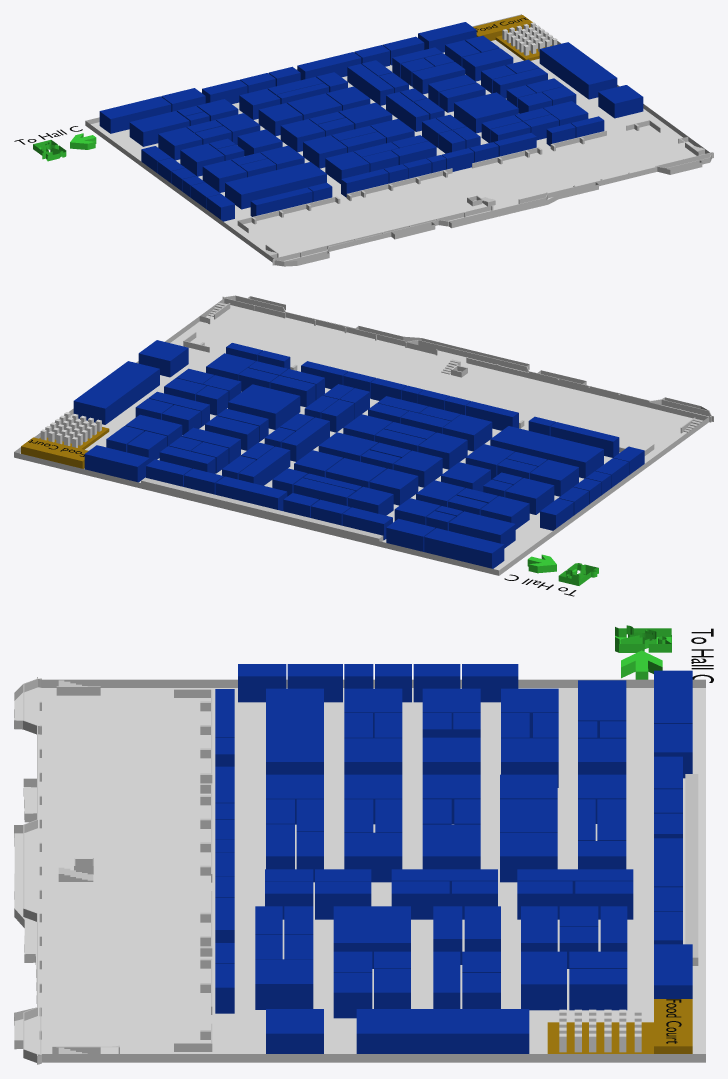
Rendered from Hall_B_2.glb.
The picture shows the model from 3 angles, top to bottom: view 1: azimuth 30°, elevation 25°; view 2: azimuth 150°, elevation 25°; view 3: azimuth 270°, elevation 25°; orthographic projection. The views are drawn at different scales.
Visible parts, largest first — view 1: Plane, Building_curve_, Background_curve_, BOOTHLAYER_curve_.B-6030, BOOTHLAYER_curve_.B-3190, BOOTHLAYER_curve_.B-5140, BOOTHLAYER_curve_.B-1000, BOOTHLAYER_curve_.B-2000, BOOTHLAYER_curve_.B-6180, Cube.004, BOOTHLAYER_curve_.B-2100, 0_curve_ (+61 smaller); view 2: Plane, Building_curve_, Background_curve_, BOOTHLAYER_curve_.B-3190, BOOTHLAYER_curve_.B-6030, BOOTHLAYER_curve_.B-1000, BOOTHLAYER_curve_.B-5140, BOOTHLAYER_curve_.B-1100, BOOTHLAYER_curve_.B-2000, 0_curve_, BOOTHLAYER_curve_.B-1060, Cube.004 (+61 smaller); view 3: Plane, Building_curve_, BOOTHLAYER_curve_.B-3190, Background_curve_, BOOTHLAYER_curve_.B-6030, 0_curve_, BOOTHLAYER_curve_.B-5140, BOOTHLAYER_curve_.B-6170, BOOTHLAYER_curve_.B-2200, BOOTHLAYER_curve_.B-4095, BOOTHLAYER_curve_.B-6180, BOOTHLAYER_curve_.B-5080 (+79 smaller).
Part boxes in pixels (x1,y1,x2,y2): Plane: (91, 40, 696, 261); Building_curve_: (86, 14, 713, 265); Background_curve_: (85, 41, 713, 266); BOOTHLAYER_curve_.B-6030: (225, 162, 326, 209); BOOTHLAYER_curve_.B-3190: (539, 42, 617, 99); BOOTHLAYER_curve_.B-5140: (454, 92, 518, 133); BOOTHLAYER_curve_.B-1000: (99, 96, 171, 133); BOOTHLAYER_curve_.B-2000: (129, 111, 189, 146); BOOTHLAYER_curve_.B-6180: (598, 85, 643, 118); Cube.004: (502, 22, 557, 55); BOOTHLAYER_curve_.B-2100: (347, 64, 393, 105); 0_curve_: (473, 15, 551, 60); Plane: (20, 303, 708, 570); Building_curve_: (14, 295, 712, 541); Background_curve_: (14, 296, 713, 575); BOOTHLAYER_curve_.B-3190: (73, 361, 159, 424); BOOTHLAYER_curve_.B-6030: (490, 426, 603, 478); BOOTHLAYER_curve_.B-1000: (424, 528, 504, 568); BOOTHLAYER_curve_.B-5140: (228, 384, 300, 429); BOOTHLAYER_curve_.B-1100: (84, 445, 149, 482); BOOTHLAYER_curve_.B-2000: (449, 511, 515, 548); 0_curve_: (21, 427, 109, 468); BOOTHLAYER_curve_.B-1060: (215, 476, 287, 510); Cube.004: (40, 412, 101, 447); Plane: (14, 687, 705, 1053); Building_curve_: (23, 677, 698, 1062); BOOTHLAYER_curve_.B-3190: (356, 1009, 529, 1053); Background_curve_: (14, 677, 705, 1064); BOOTHLAYER_curve_.B-6030: (266, 688, 323, 774); 0_curve_: (547, 999, 692, 1053); BOOTHLAYER_curve_.B-5140: (333, 906, 410, 968); BOOTHLAYER_curve_.B-6170: (255, 959, 313, 1009); BOOTHLAYER_curve_.B-2200: (521, 951, 566, 1010); BOOTHLAYER_curve_.B-4095: (422, 824, 480, 869); BOOTHLAYER_curve_.B-6180: (266, 1009, 323, 1053); BOOTHLAYER_curve_.B-5080: (344, 832, 402, 882).
Bounding box in the file's own units: 107 × 3.24 × 72.47.
